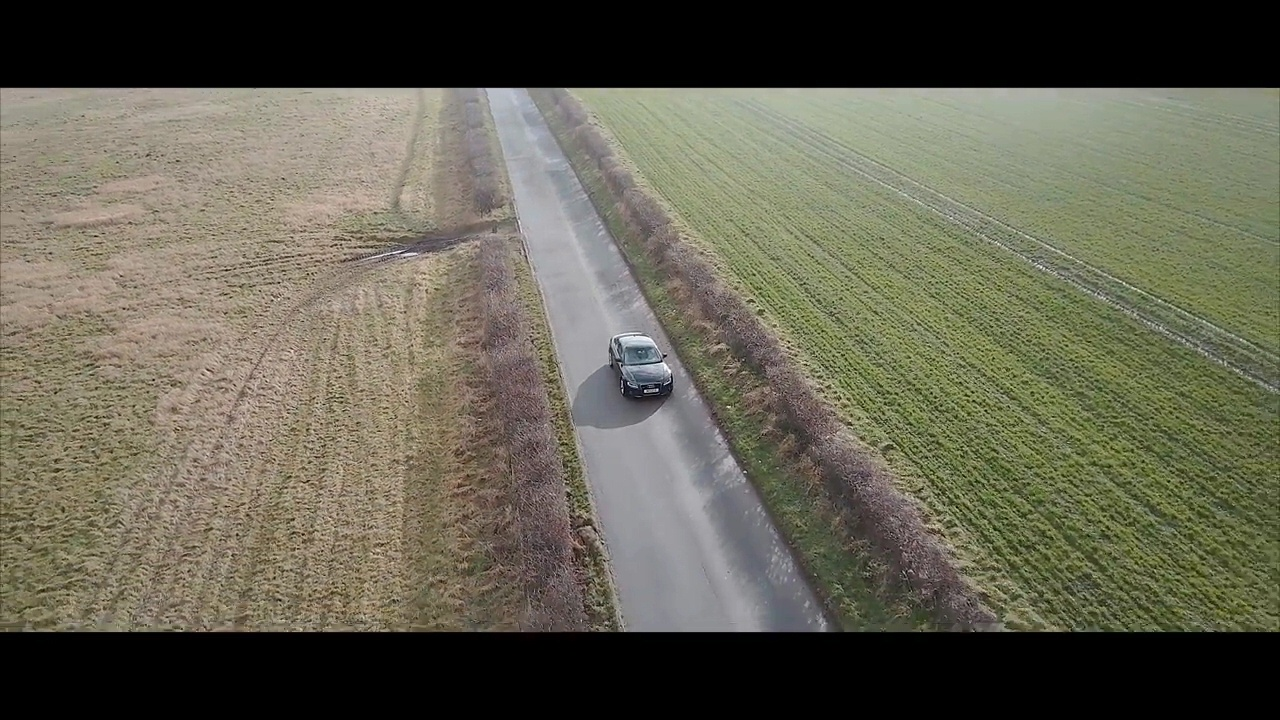araba: (606, 327, 677, 404)
